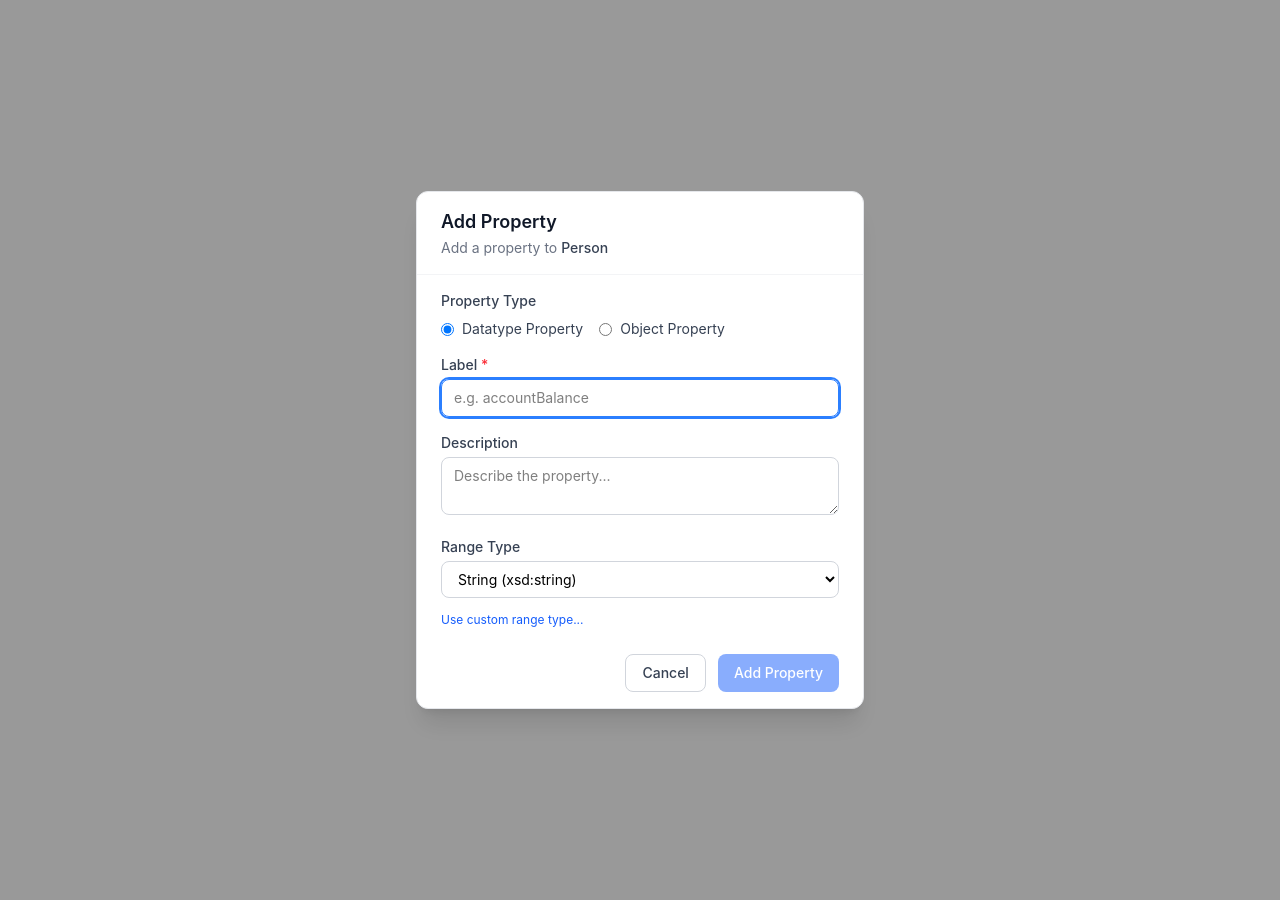
Scenario: AddPropertyDialog › supports custom range type input
Click the button "Use custom range type...": x=512, y=620 [441,612,584,628]
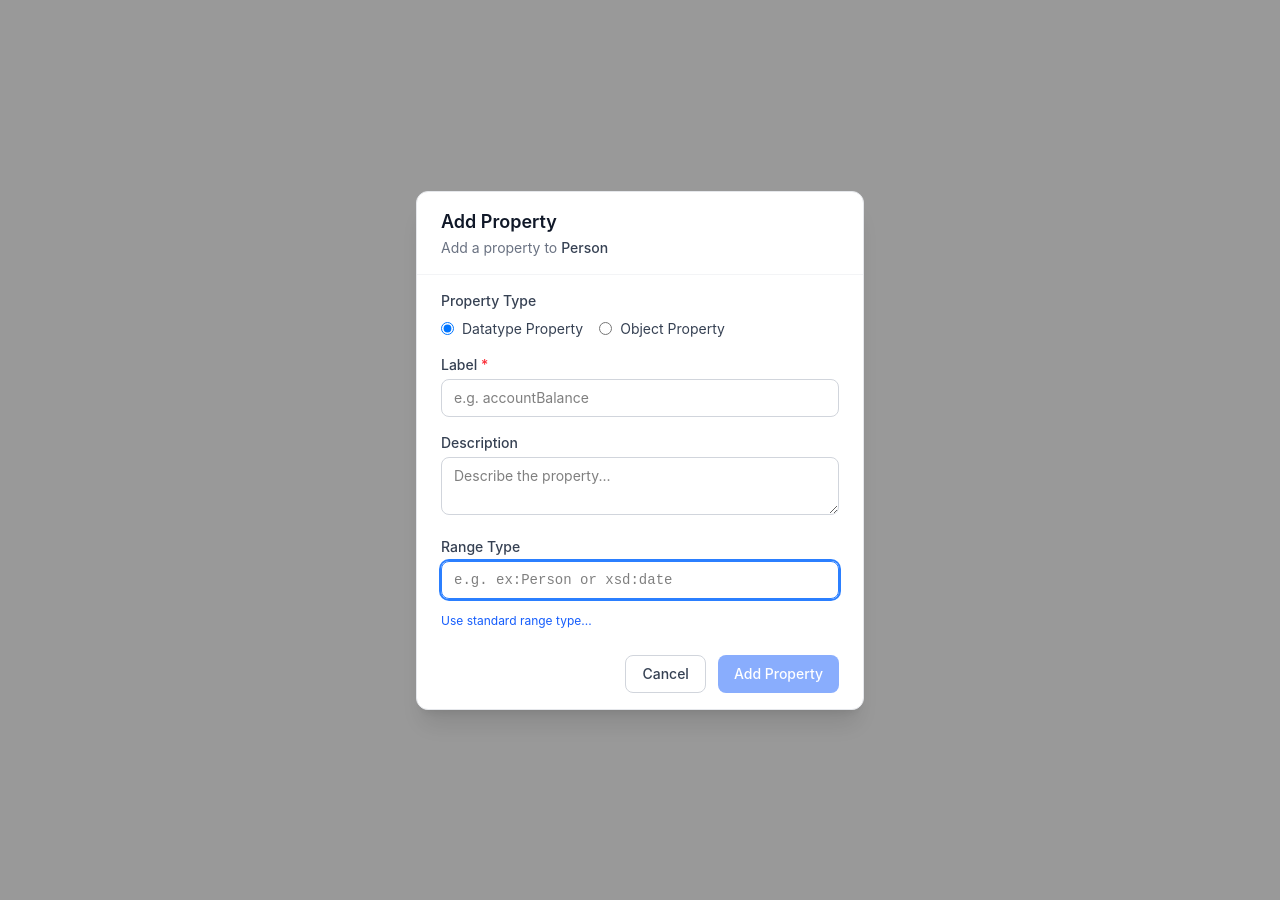
Expected: the field with test id "property-range-custom" is shown, [441,560,839,598]
Click the button "Use standard range type...": x=516, y=620 [441,612,592,628]
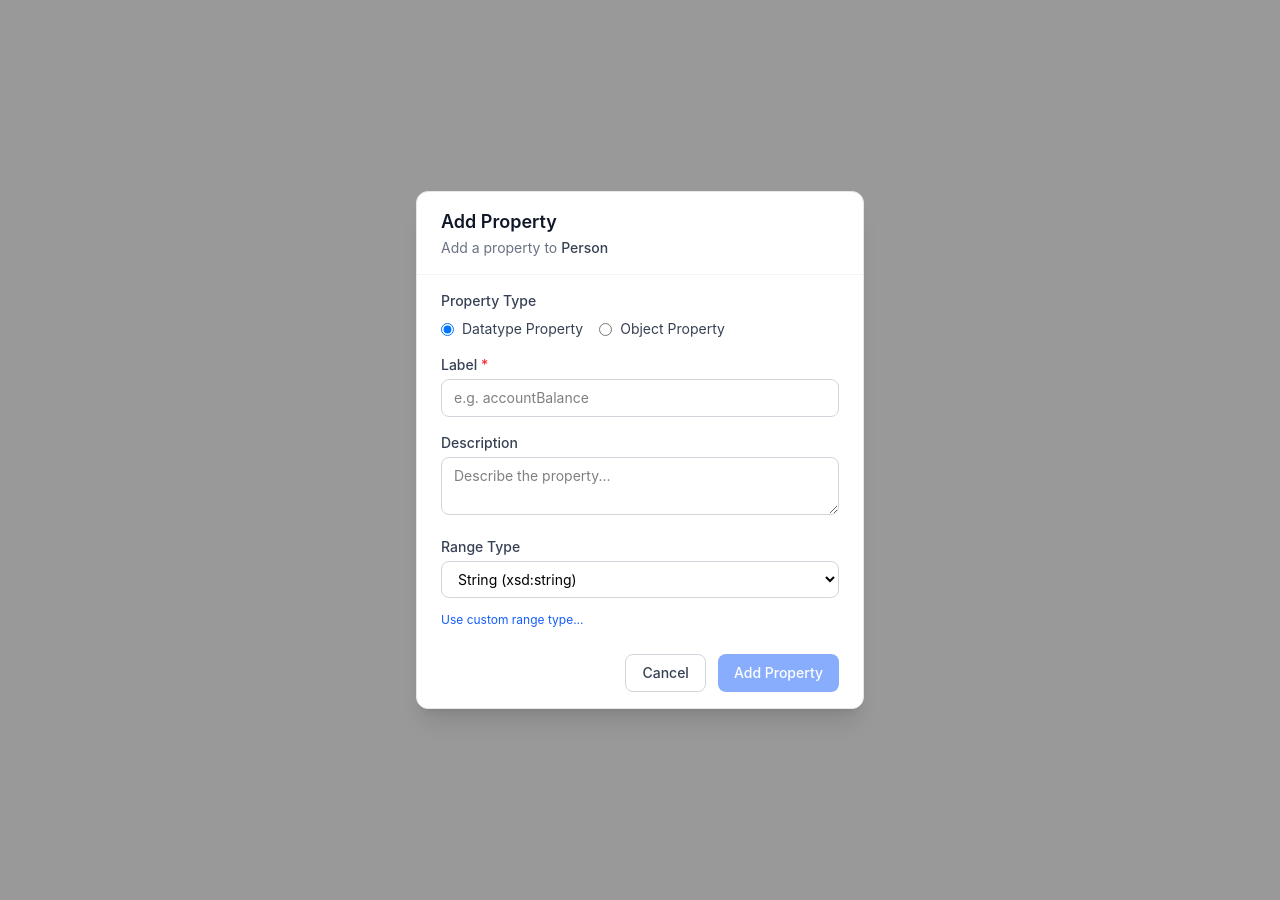
Expected: the dropdown with test id "property-range-select" is shown, [441,561,839,598]
